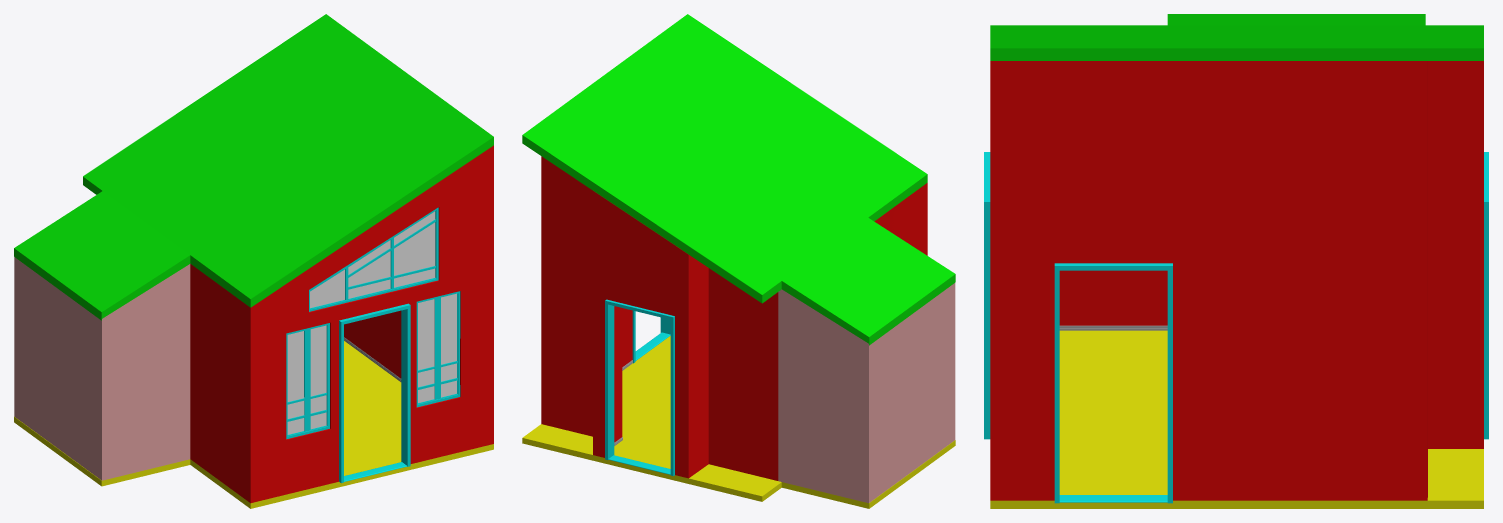
File: FloorPlan519_physics.fbx
3 renders of one model, left to right at view 1: azimuth 30°, elevation 25°; view 2: azimuth 150°, elevation 25°; view 3: azimuth 270°, elevation 25°, orthographic. The views are drawn at different scales.
Parts seen in each view (by area): view 1: FP519:Ceiling_1, FP519:Walls_1, FP519:Walls_2, FP519:Ceiling_2, FP519:Floor_1, FP519:WindowPane_3, FP519:WindowPane_1, FP519:WindowPane_2, FP519:DoorFrame_1, FP519:WindowFrame_3, FP519:WindowFrame_1, FP519:WindowFrame_2 (+1 smaller); view 2: FP519:Ceiling_1, FP519:Walls_1, FP519:Walls_2, FP519:Ceiling_2, FP519:Floor_1, FP519:DoorFrame_3, FP519:Floor_2; view 3: FP519:Walls_1, FP519:Floor_1, FP519:Ceiling_1, FP519:DoorFrame_2, FP519:Ceiling_2, FP519:DoorFrame_1, FP519:DoorFrame_3, FP519:Floorboard_2, FP519:Baseboard_1.
Boxes of the visible parts, <box> form: FP519:Ceiling_1: <box>83,14,493,307</box>; FP519:Walls_1: <box>190,145,493,503</box>; FP519:Walls_2: <box>14,257,190,480</box>; FP519:Ceiling_2: <box>14,191,190,320</box>; FP519:Floor_1: <box>190,341,493,508</box>; FP519:WindowPane_3: <box>310,211,435,308</box>; FP519:WindowPane_1: <box>287,325,326,434</box>; FP519:WindowPane_2: <box>418,293,456,402</box>; FP519:DoorFrame_1: <box>339,303,410,483</box>; FP519:WindowFrame_3: <box>309,207,438,311</box>; FP519:WindowFrame_1: <box>286,323,329,439</box>; FP519:WindowFrame_2: <box>416,291,460,407</box>; FP519:Ceiling_1: <box>522,14,927,303</box>; FP519:Walls_1: <box>541,156,927,480</box>; FP519:Walls_2: <box>778,283,955,503</box>; FP519:Ceiling_2: <box>781,217,955,345</box>; FP519:Floor_1: <box>522,336,781,501</box>; FP519:DoorFrame_3: <box>605,299,674,476</box>; FP519:Floor_2: <box>781,440,955,508</box>; FP519:Walls_1: <box>990,61,1483,500</box>; FP519:Floor_1: <box>990,330,1483,508</box>; FP519:Ceiling_1: <box>990,25,1483,60</box>; FP519:DoorFrame_2: <box>1054,263,1172,503</box>; FP519:Ceiling_2: <box>1167,14,1425,25</box>; FP519:DoorFrame_1: <box>984,152,990,439</box>; FP519:DoorFrame_3: <box>1484,152,1488,439</box>; FP519:Floorboard_2: <box>1059,495,1167,502</box>; FP519:Baseboard_1: <box>1059,325,1167,330</box>.
Size of the model in its own units: 449 by 400 by 397.
